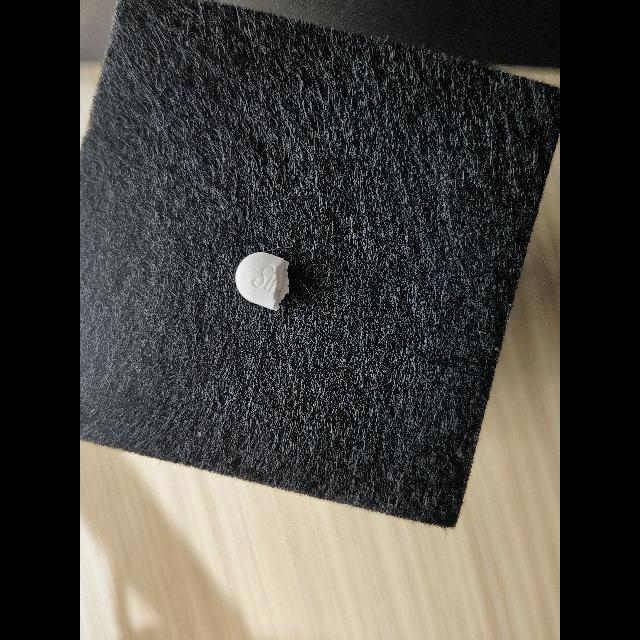Chipped Pill: (235, 252, 289, 311)
